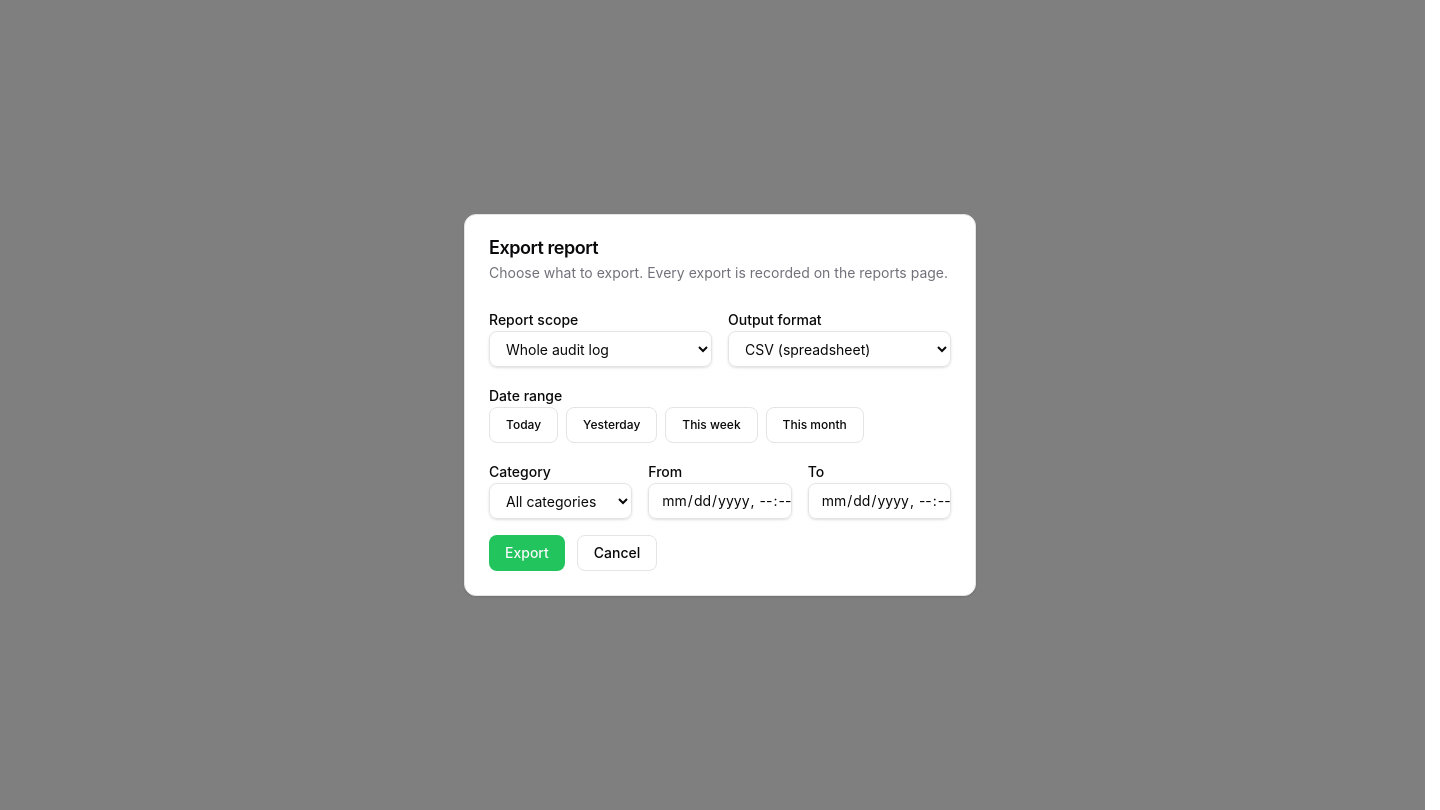
Test case: ExportDialog › requires a switch when exporting a switch report
Select "Specific switch" in the dropdown labelled "Report scope" at (600,349), box [489, 331, 712, 367]
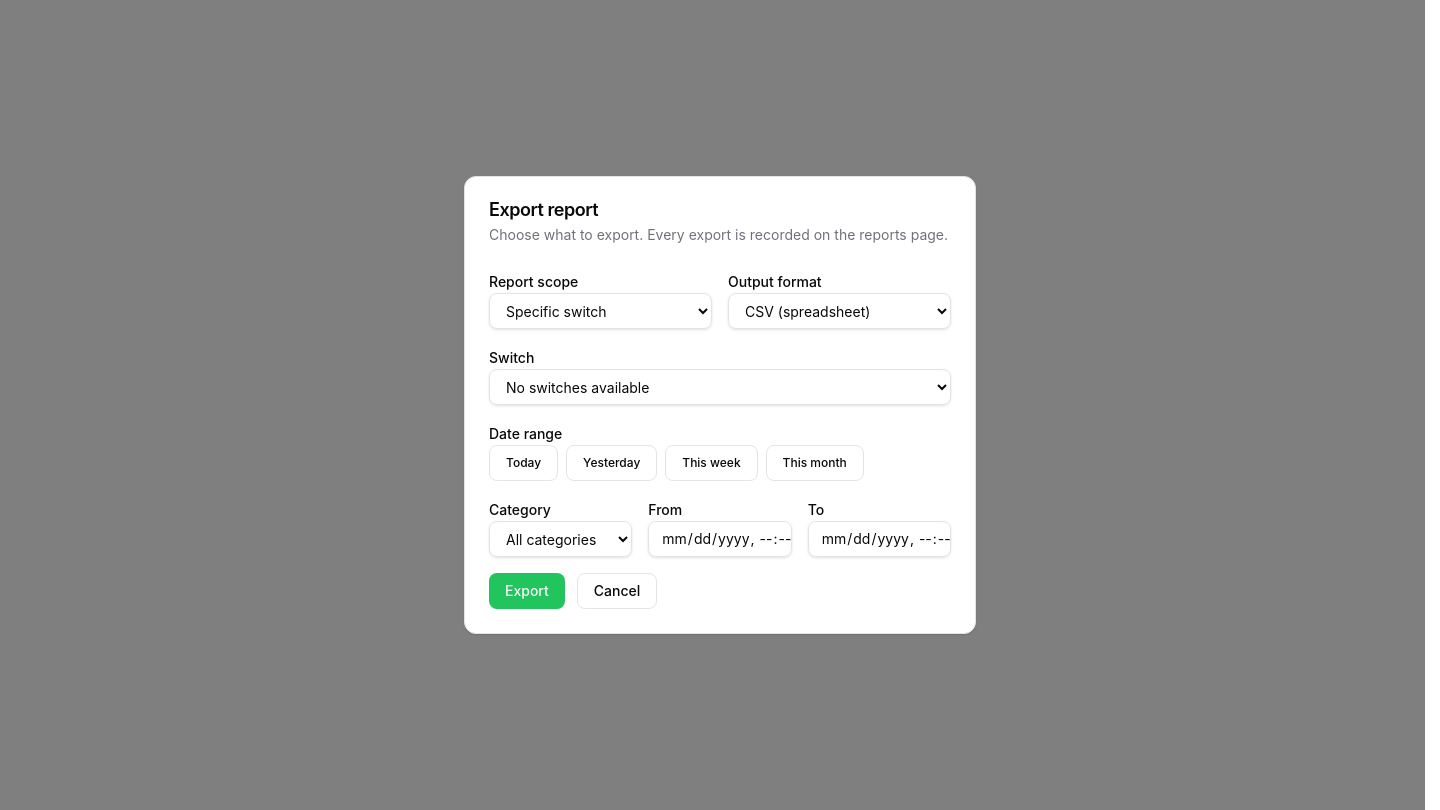
Click the button "Export" at (527,591), box [489, 573, 565, 609]
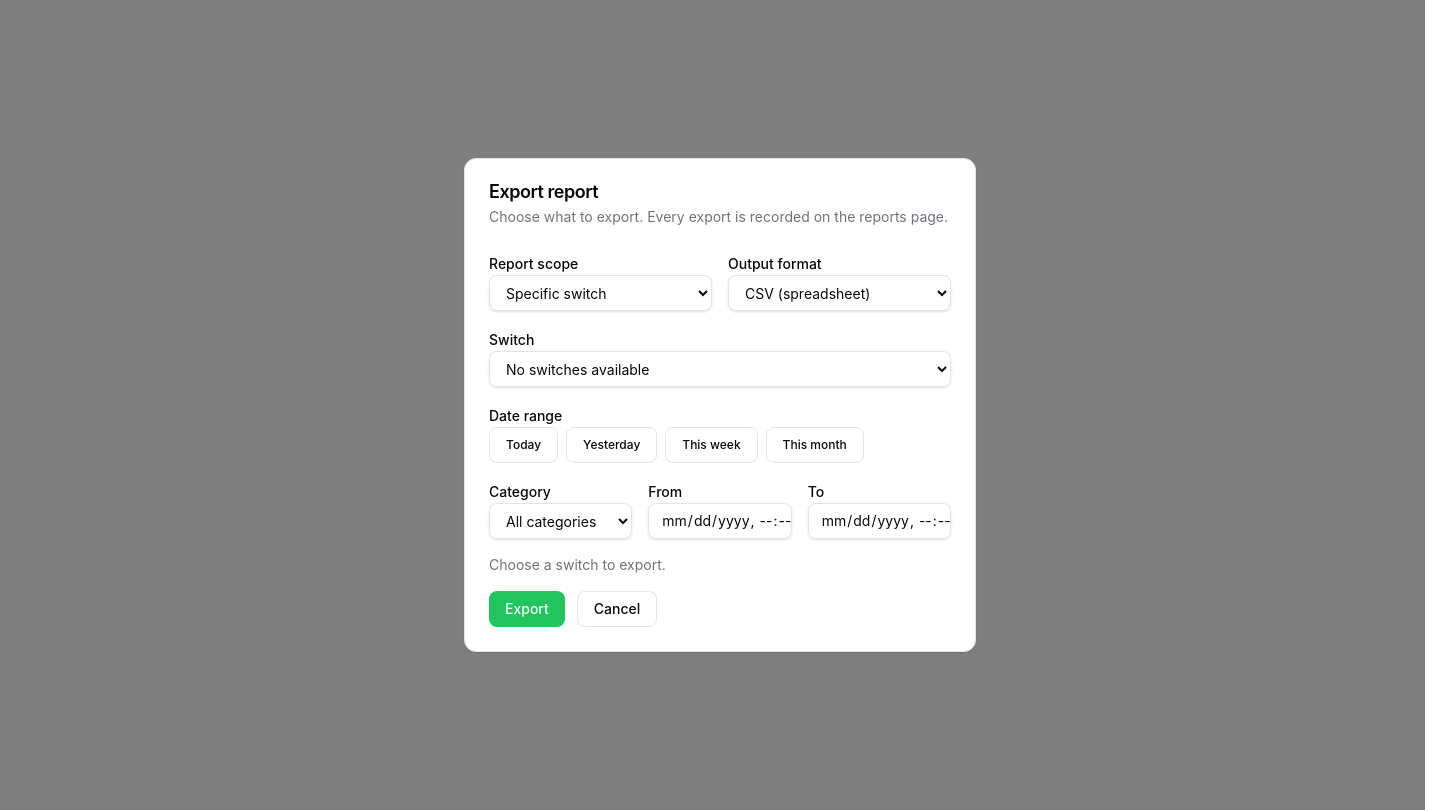
Expected: the text "Choose a switch to export." is shown, [489, 556, 666, 573]
